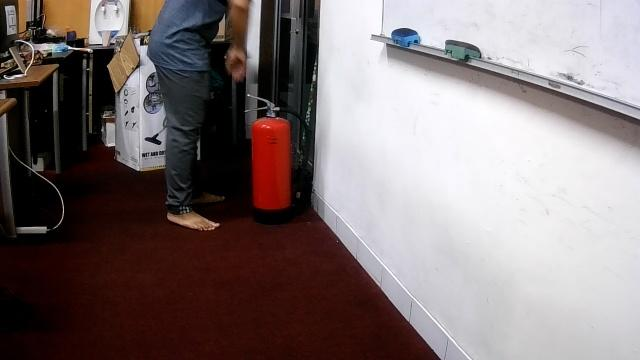APAR: (243, 93, 292, 225)
Dispenser: (86, 0, 131, 46)
